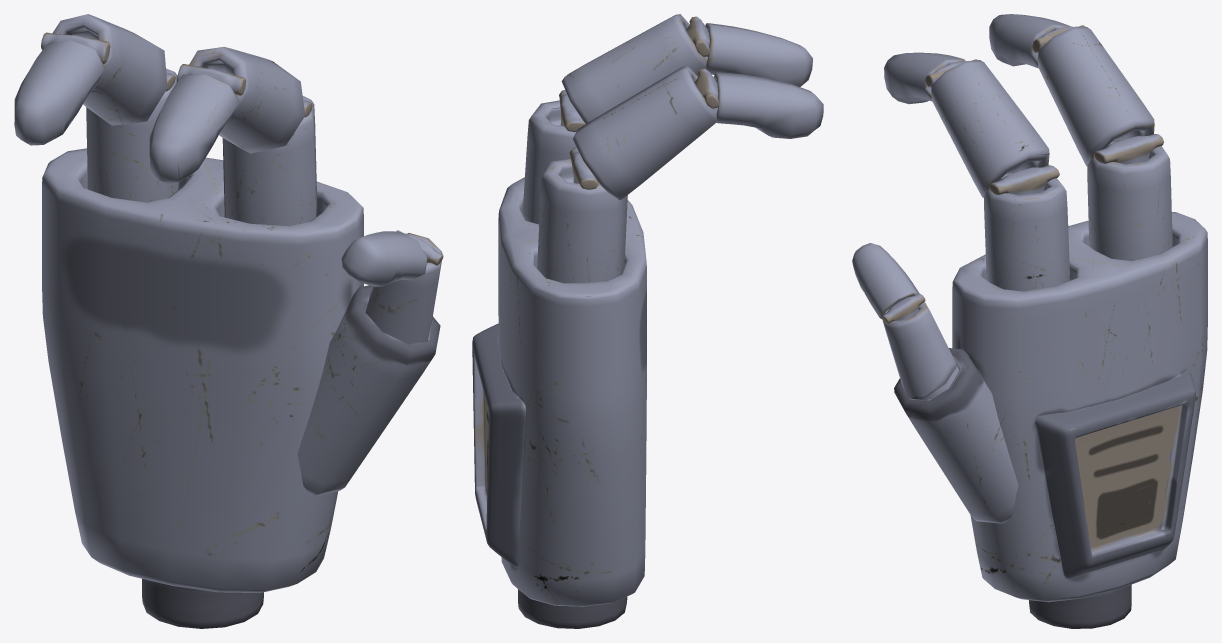
File: hand.fbx
The picture shows the model from 3 angles, left to right: view 1: azimuth 30°, elevation 25°; view 2: azimuth 150°, elevation 25°; view 3: azimuth 270°, elevation 25°; orthographic projection. The views are drawn at different scales.
Visible parts, largest first — view 1: Hand.011, Hand.001, Hand.007, Hand.008, Hand.005, Hand.006, Hand.002, Hand.013, Hand.012, Hand.009, Hand.010; view 2: Hand.011, Hand.008, Hand.002, Hand.007, Hand.006, Hand.005, Hand.001, Hand.004, Hand.010, Hand.009, Hand.003; view 3: Hand.011, Hand.008, Hand.007, Hand.001, Hand.002, Hand.013, Hand.012, Hand.006, Hand.005, Hand.004, Hand.003, Hand.014.
Part boxes in pixels (x1,y1,x2,y2): Hand.011: [42, 148, 440, 628]; Hand.001: [222, 96, 317, 226]; Hand.007: [189, 47, 305, 153]; Hand.008: [52, 14, 167, 125]; Hand.005: [149, 74, 239, 183]; Hand.006: [14, 40, 104, 145]; Hand.002: [86, 68, 179, 202]; Hand.013: [365, 233, 442, 344]; Hand.012: [341, 231, 427, 286]; Hand.009: [177, 64, 246, 95]; Hand.010: [41, 32, 110, 63]; Hand.011: [472, 177, 646, 628]; Hand.008: [573, 66, 717, 200]; Hand.002: [537, 158, 627, 283]; Hand.007: [561, 14, 707, 123]; Hand.006: [714, 72, 823, 138]; Hand.005: [705, 23, 812, 86]; Hand.001: [522, 100, 576, 224]; Hand.004: [569, 147, 598, 189]; Hand.010: [694, 68, 719, 108]; Hand.009: [685, 16, 710, 56]; Hand.003: [559, 90, 585, 132]; Hand.011: [894, 212, 1207, 628]; Hand.008: [1037, 27, 1154, 165]; Hand.007: [931, 60, 1049, 197]; Hand.001: [984, 171, 1070, 291]; Hand.002: [1087, 140, 1172, 260]; Hand.013: [882, 302, 959, 400]; Hand.012: [852, 243, 918, 318]; Hand.006: [989, 14, 1070, 68]; Hand.005: [884, 52, 965, 104]; Hand.004: [1093, 134, 1163, 164]; Hand.003: [989, 165, 1059, 195]; Hand.014: [881, 293, 925, 323].
Size of the model in its own units: 381 by 599 by 363.
